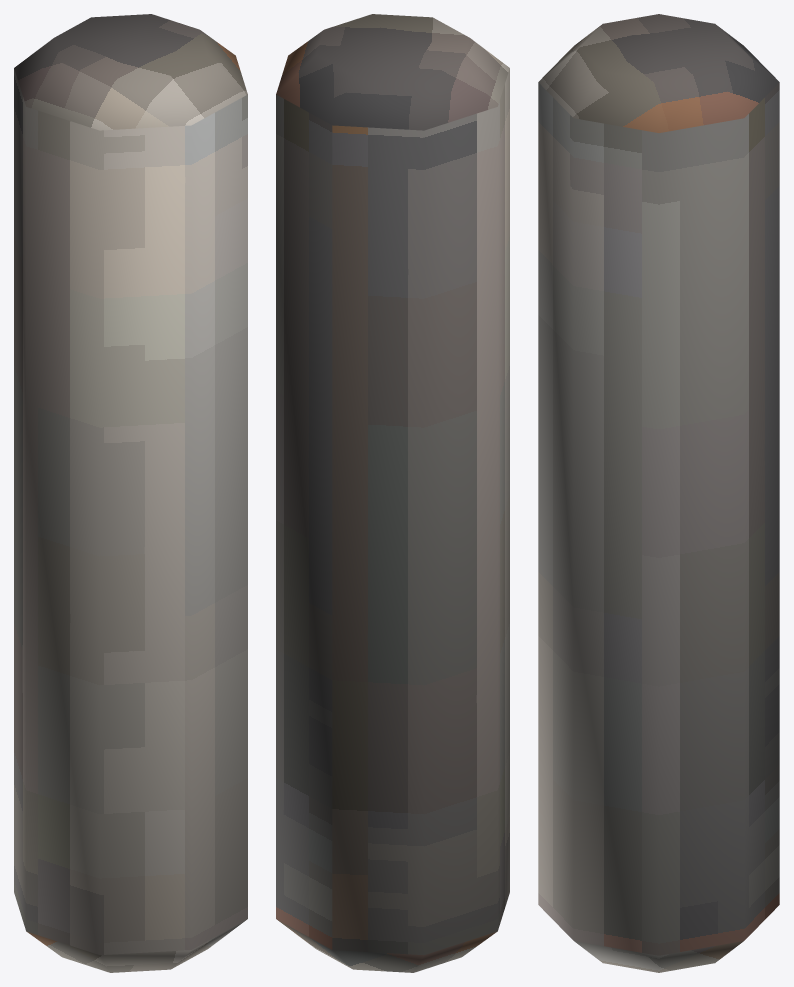
The model's file is item_metal_rod_small.glb.
The picture shows the model from 3 angles, left to right: view 1: azimuth 30°, elevation 25°; view 2: azimuth 150°, elevation 25°; view 3: azimuth 270°, elevation 25°; orthographic projection.
Parts seen in each view (by area): view 1: MetalRodSmall; view 2: MetalRodSmall; view 3: MetalRodSmall.
Boxes of the visible parts, x1,y1,x2,y2 form: MetalRodSmall: (14,14,247,972); MetalRodSmall: (276,14,509,972); MetalRodSmall: (538,14,779,972).
Bounding box in the file's own units: 0.1475 × 0.6011 × 0.1475.
1 material, 1 textured.
